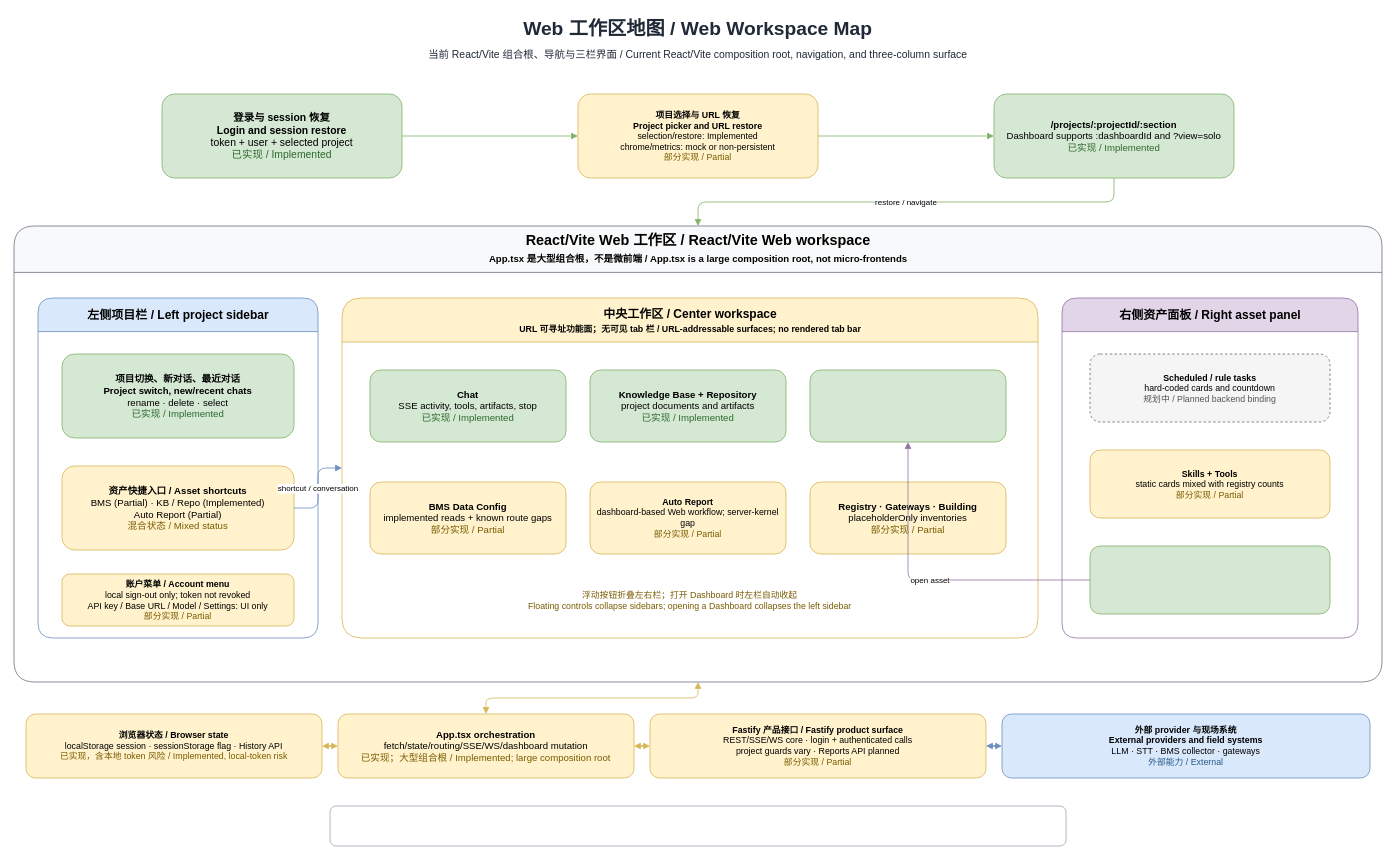
Some shapes in this 1396 by 860 pixel diagram are drawn without their labels. The shapes that lost their labels are listed below. From the top down, each one's centre as x and y in pixels, then its label:
(907,405): Dashboards edit · layout · bindings · solo view 已实现 / Implemented
(1209,579): Dashboard assets open · rename · duplicate · merge · delete 已实现 / Implemented
(697,825): 状态 / Status 已实现 / Implemented 部分实现 / Partial 规划中 / Planned 外部能力 / External
